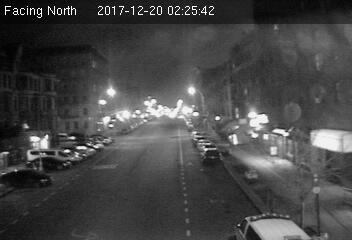police: (233, 208, 316, 240)
